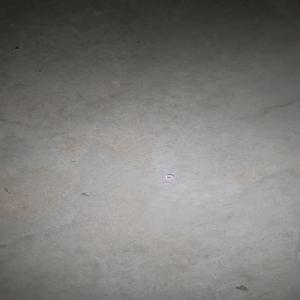Nut: (163, 173, 173, 179)
